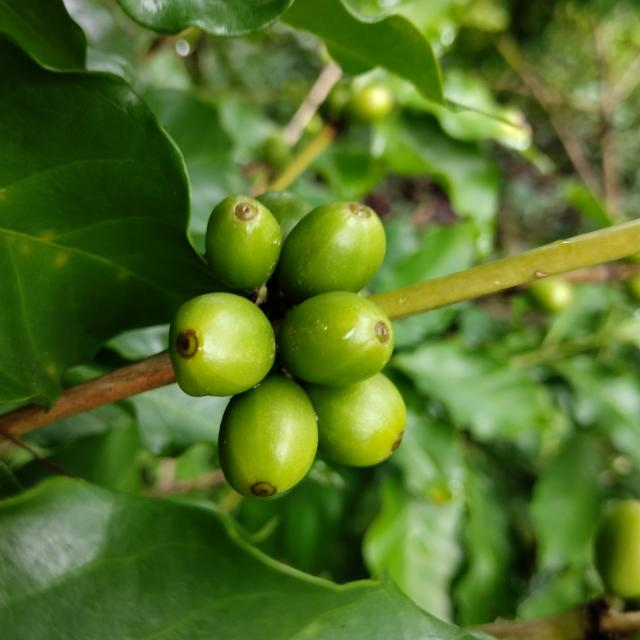green: (218, 374, 318, 498), (169, 292, 275, 397), (277, 291, 394, 386), (277, 201, 386, 301), (304, 373, 406, 467), (205, 195, 282, 290), (256, 190, 313, 243)
